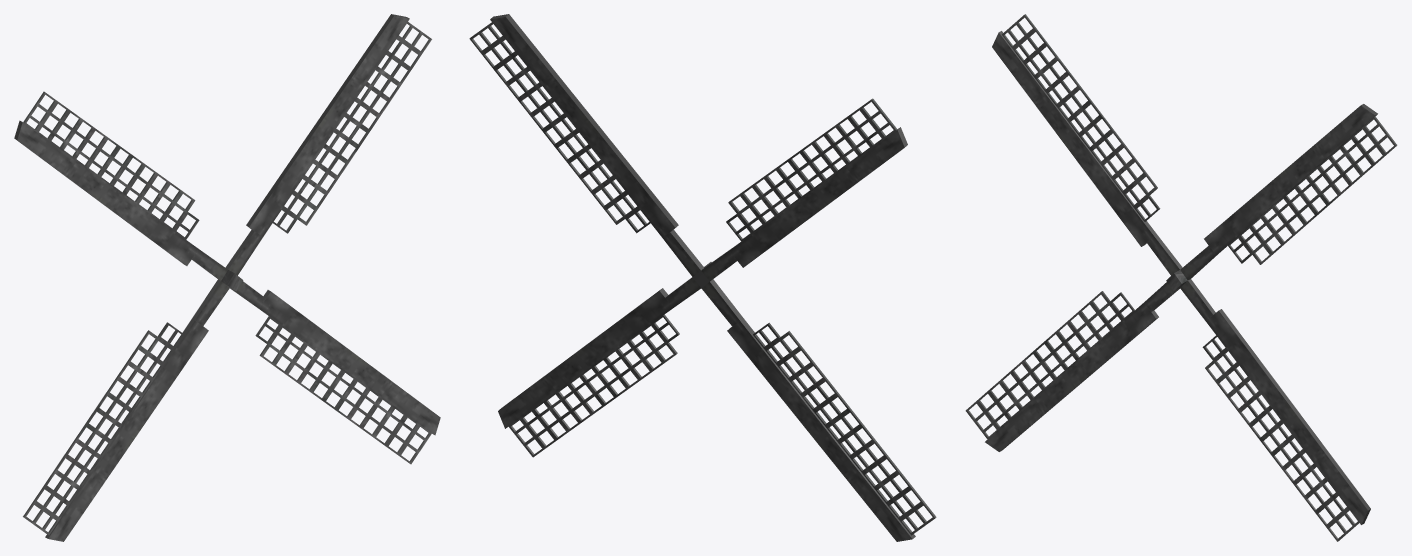
The model's file is windmill_blades.glb.
3 renders of one model, left to right at view 1: azimuth 30°, elevation 25°; view 2: azimuth 150°, elevation 25°; view 3: azimuth 330°, elevation 25°, orthographic. The views are drawn at different scales.
Visible parts, largest first — view 1: prefab; view 2: prefab; view 3: prefab.
Part boxes in pixels (x1,y1,x2,y2): prefab: [14, 14, 440, 541]; prefab: [469, 14, 936, 541]; prefab: [965, 14, 1397, 541].
Bounding box in the file's own units: 10.37 × 10.26 × 1.01.
1 material, 1 textured.
